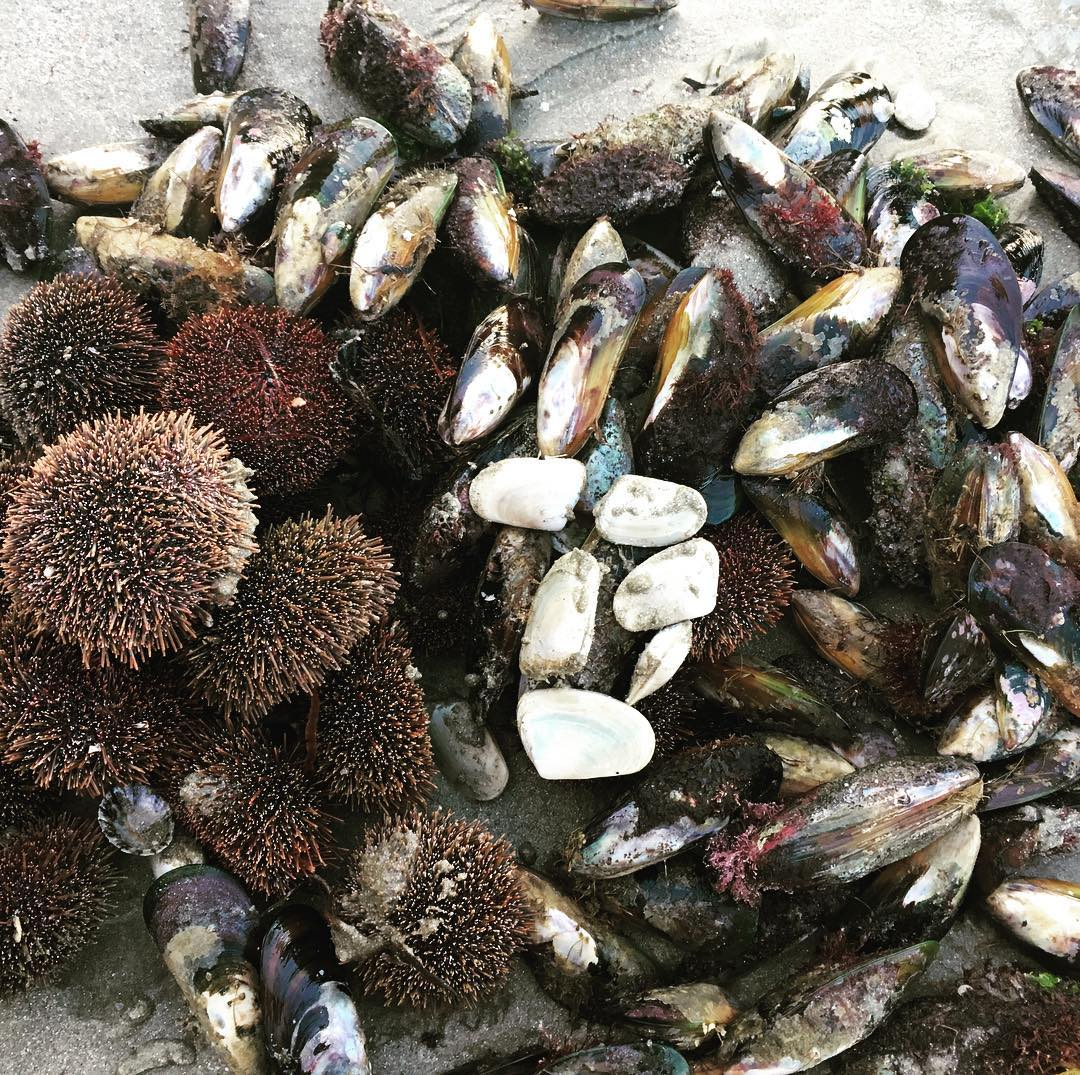mussel: (701, 104, 867, 280), (900, 214, 1029, 439), (273, 113, 400, 325), (143, 861, 269, 1073), (724, 355, 921, 470), (532, 256, 645, 452), (247, 904, 369, 1075), (343, 166, 460, 314), (439, 299, 547, 451), (440, 147, 542, 304)
tuatua: (514, 685, 659, 780), (515, 549, 607, 682), (611, 528, 724, 630), (594, 469, 715, 551), (467, 452, 586, 534), (624, 618, 702, 707)
